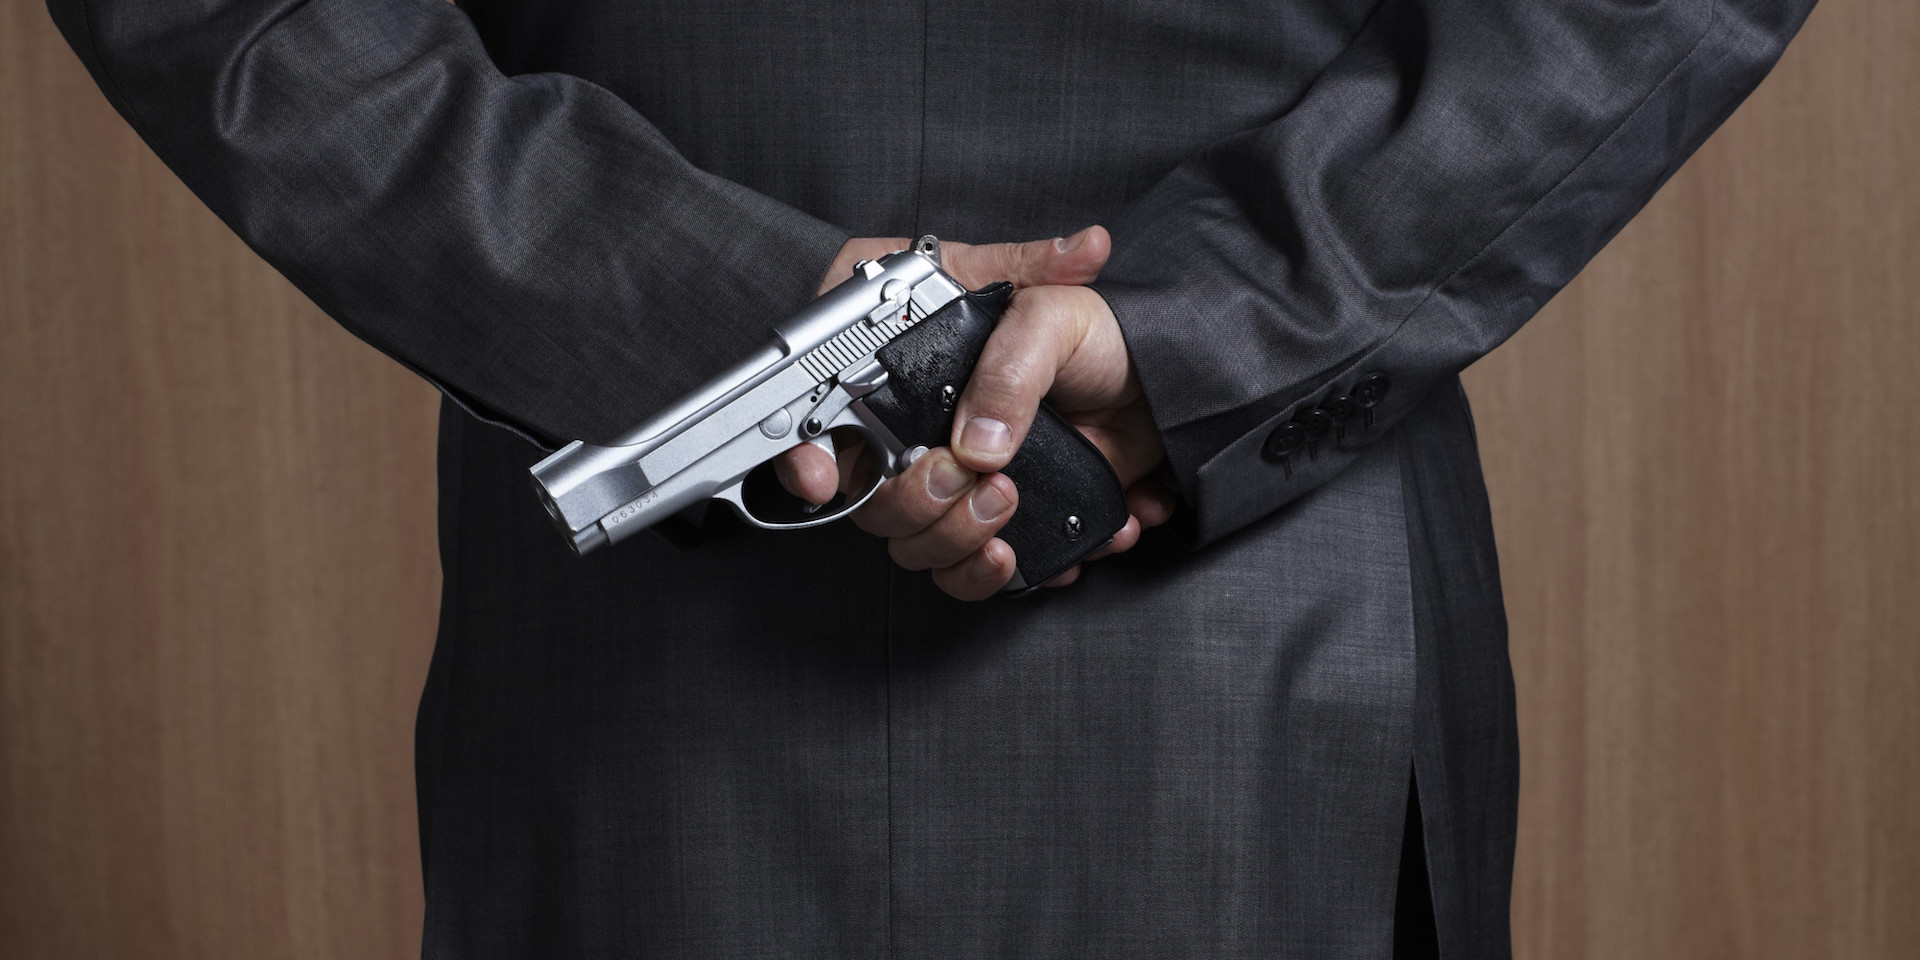pistol: (527, 228, 1138, 599)
